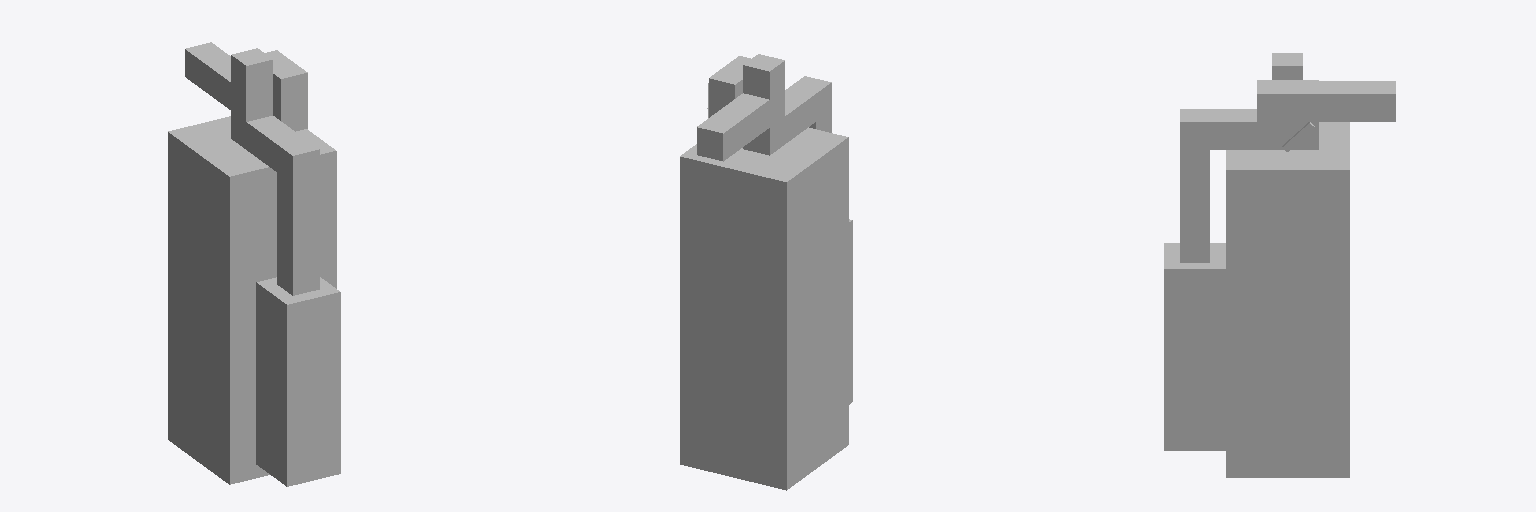
The model's file is gunfireextinguisher.obj.
The picture shows the model from 3 angles: view 1: azimuth 30°, elevation 25°; view 2: azimuth 150°, elevation 25°; view 3: azimuth 270°, elevation 25°; orthographic projection.
Visible parts, largest first — view 1: extinguisher, extingusher_hose; view 2: extinguisher, extingusher_hose; view 3: extinguisher, extingusher_hose.
Boxes of the visible parts, x1=… form: extinguisher: x1=168, y1=42, x2=336, y2=484; extingusher_hose: x1=256, y1=173, x2=340, y2=486; extinguisher: x1=680, y1=54, x2=848, y2=490; extingusher_hose: x1=809, y1=111, x2=852, y2=404; extinguisher: x1=1180, y1=53, x2=1395, y2=477; extingusher_hose: x1=1164, y1=150, x2=1225, y2=450.
Bounding box in the file's own units: 0.25 × 0.875 × 0.4688.